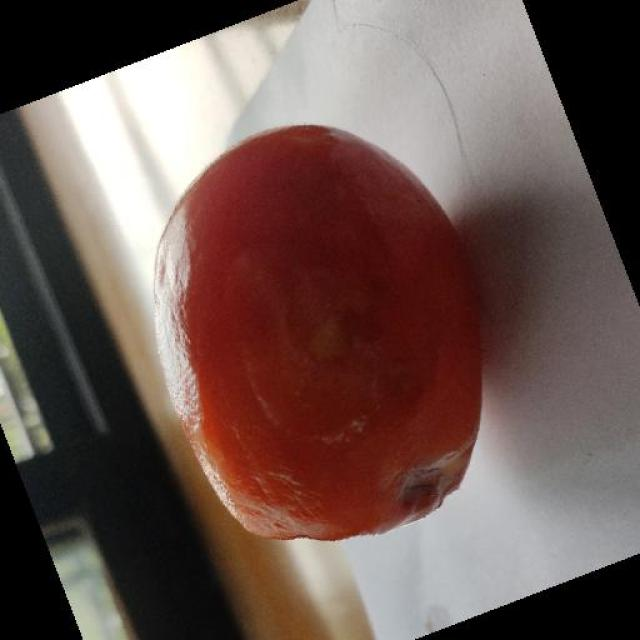Stale_tomato: (145, 172, 487, 532)
